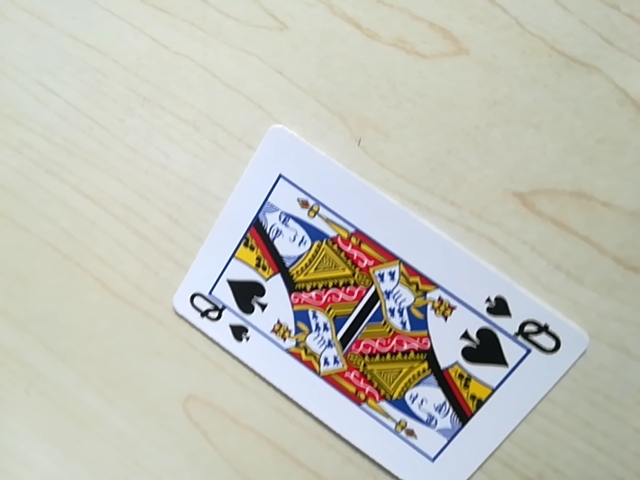ht q: (477, 298, 565, 351), (181, 291, 263, 342)
